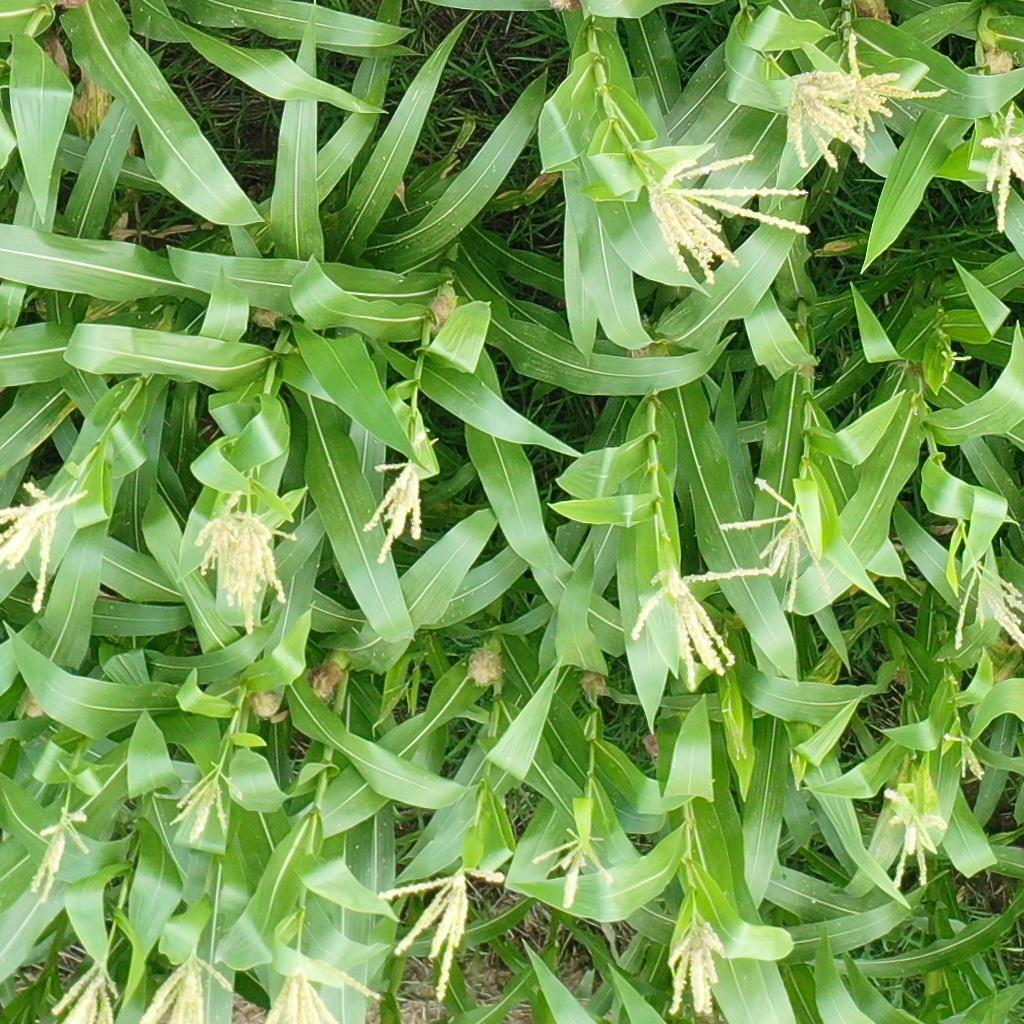Tassel: (645, 153, 814, 290), (630, 561, 776, 693), (375, 864, 505, 995), (719, 478, 835, 614), (1, 481, 91, 616), (839, 35, 953, 131), (218, 510, 299, 637), (359, 430, 429, 568), (781, 67, 866, 173), (262, 952, 380, 1024), (140, 947, 234, 1024), (882, 785, 948, 891), (529, 829, 614, 909), (954, 558, 1024, 651), (665, 913, 726, 1018), (977, 101, 1024, 232), (30, 804, 91, 901), (170, 764, 242, 842), (53, 958, 121, 1024), (191, 492, 240, 573), (946, 733, 991, 781), (726, 718, 752, 765), (941, 350, 973, 372)
